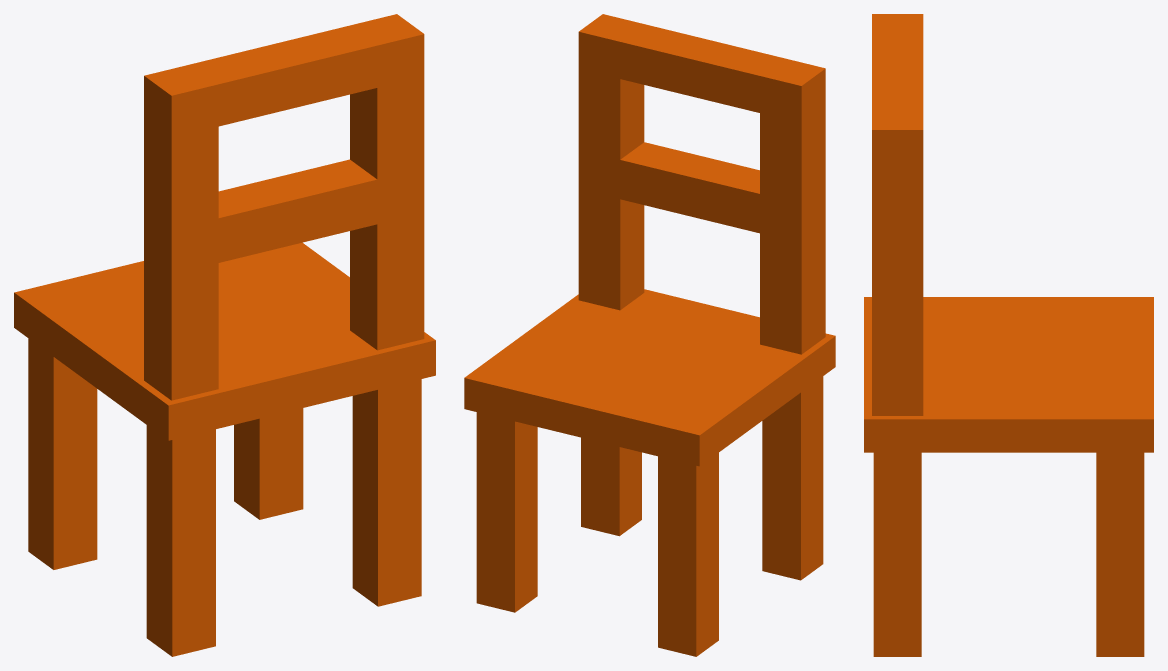
File: chair.fbx
3 views of the same model, side by side, from view 1: azimuth 30°, elevation 25°; view 2: azimuth 150°, elevation 25°; view 3: azimuth 270°, elevation 25° (orthographic). The views are drawn at different scales.
Visible parts, largest first — view 1: Chair; view 2: Chair; view 3: Chair.
Part boxes in pixels (left/top/right/bottom): Chair: left=14, top=14, right=435, bottom=656; Chair: left=464, top=14, right=835, bottom=656; Chair: left=864, top=14, right=1153, bottom=656.
Bounding box in the file's own units: 200 × 402 × 200.
